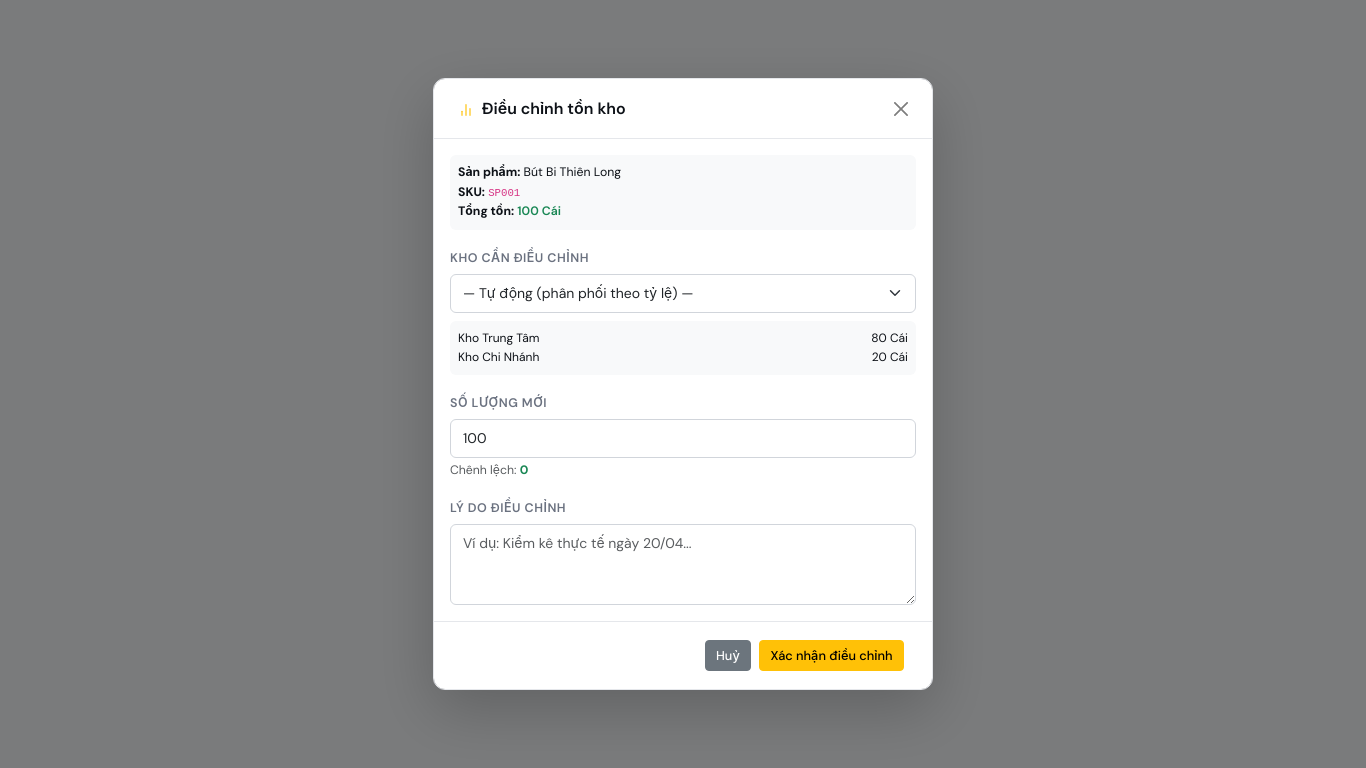
Test case: AdjustmentModal Component › shows validation error if reason is too short
# Enter valid qty
Clear the number field labelled "Số lượng mới" at (683, 438), box [450,419,916,458]
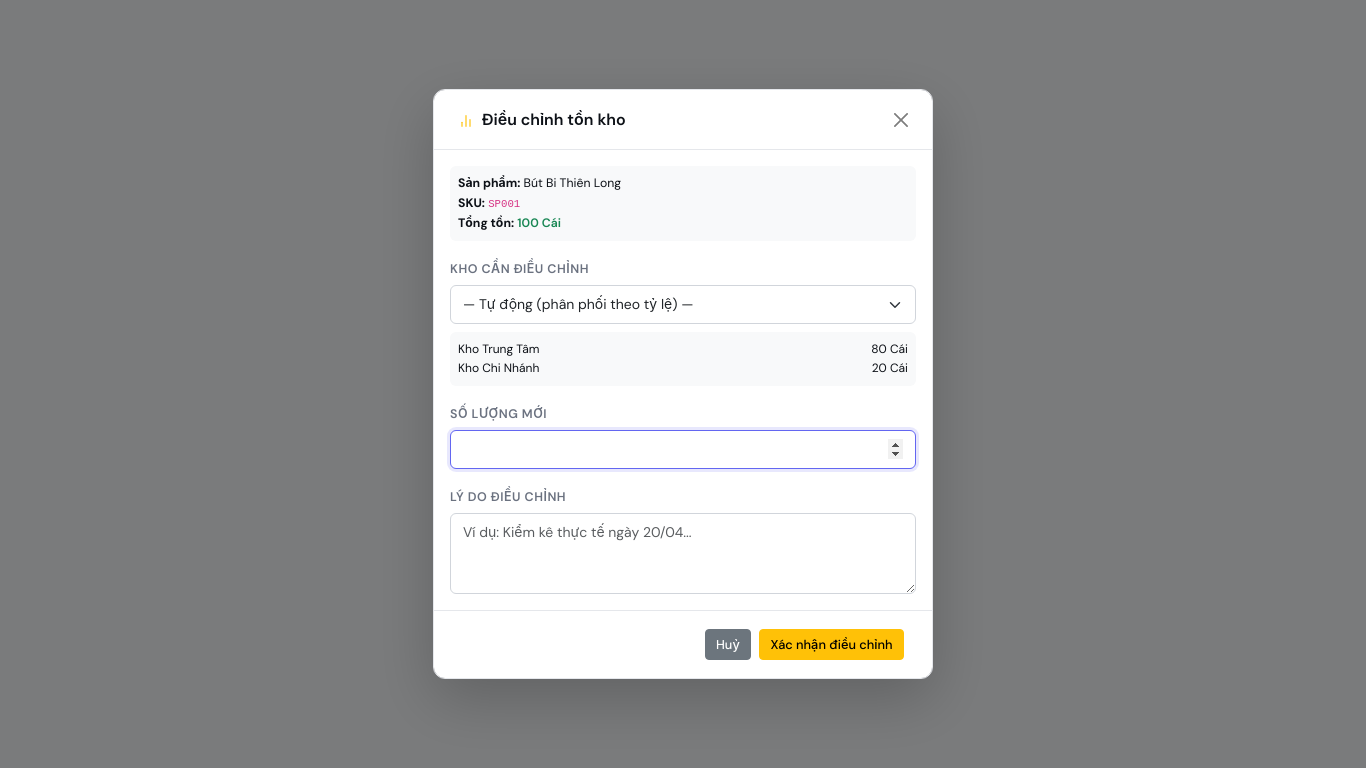
Type "120" into the number field labelled "Số lượng mới" at (683, 450), box [450,430,916,469]
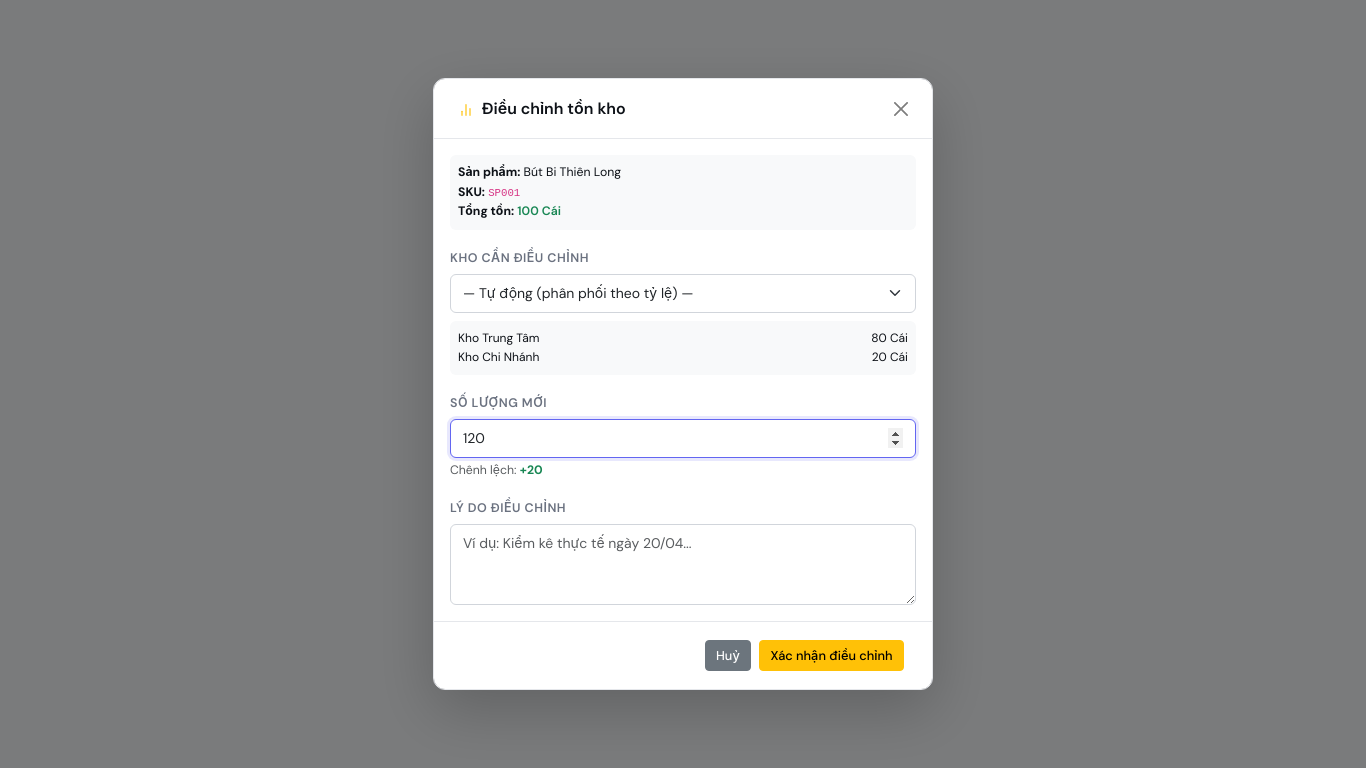
# Enter short reason
Type "Lỗi" into the text box labelled "Lý do điều chỉnh" at (683, 565), box [450,524,916,605]
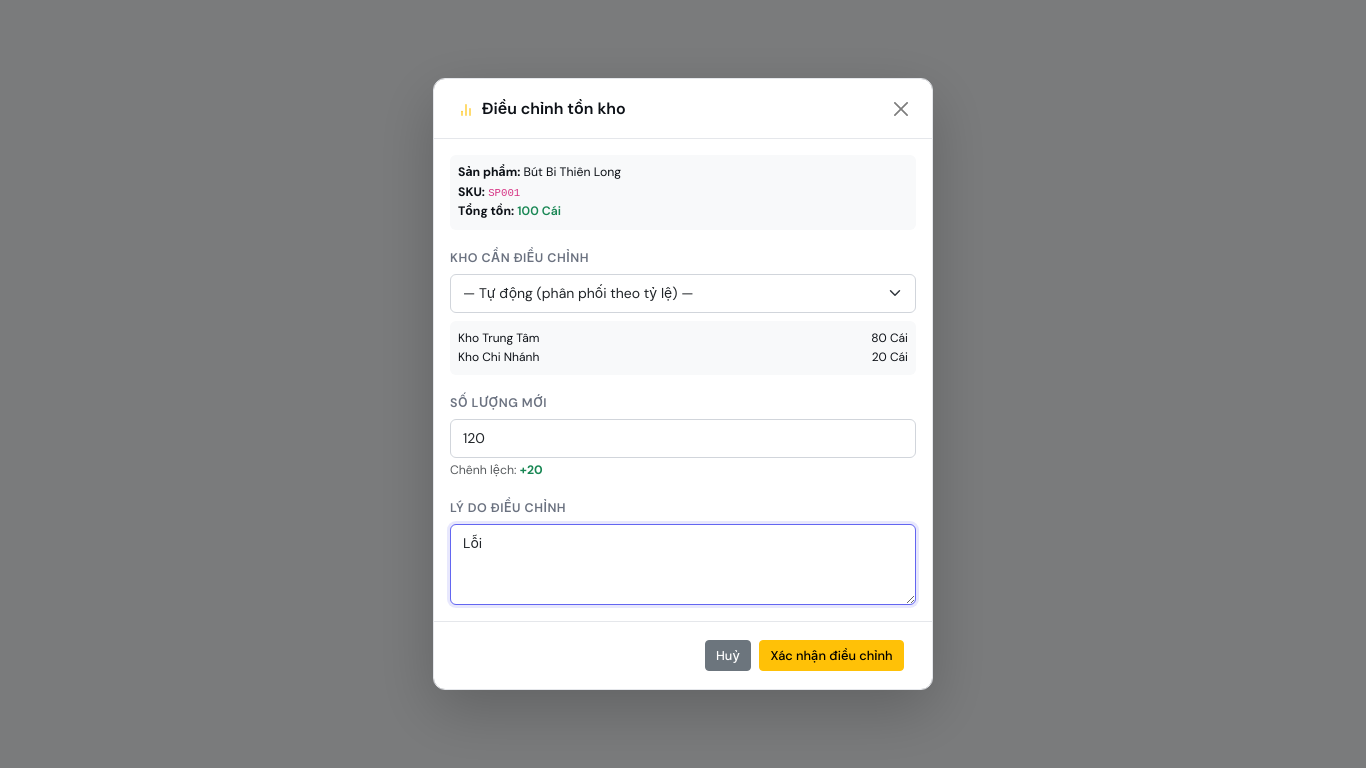
Click the button "Xác nhận điều chỉnh" at (832, 656), box [759,640,904,671]
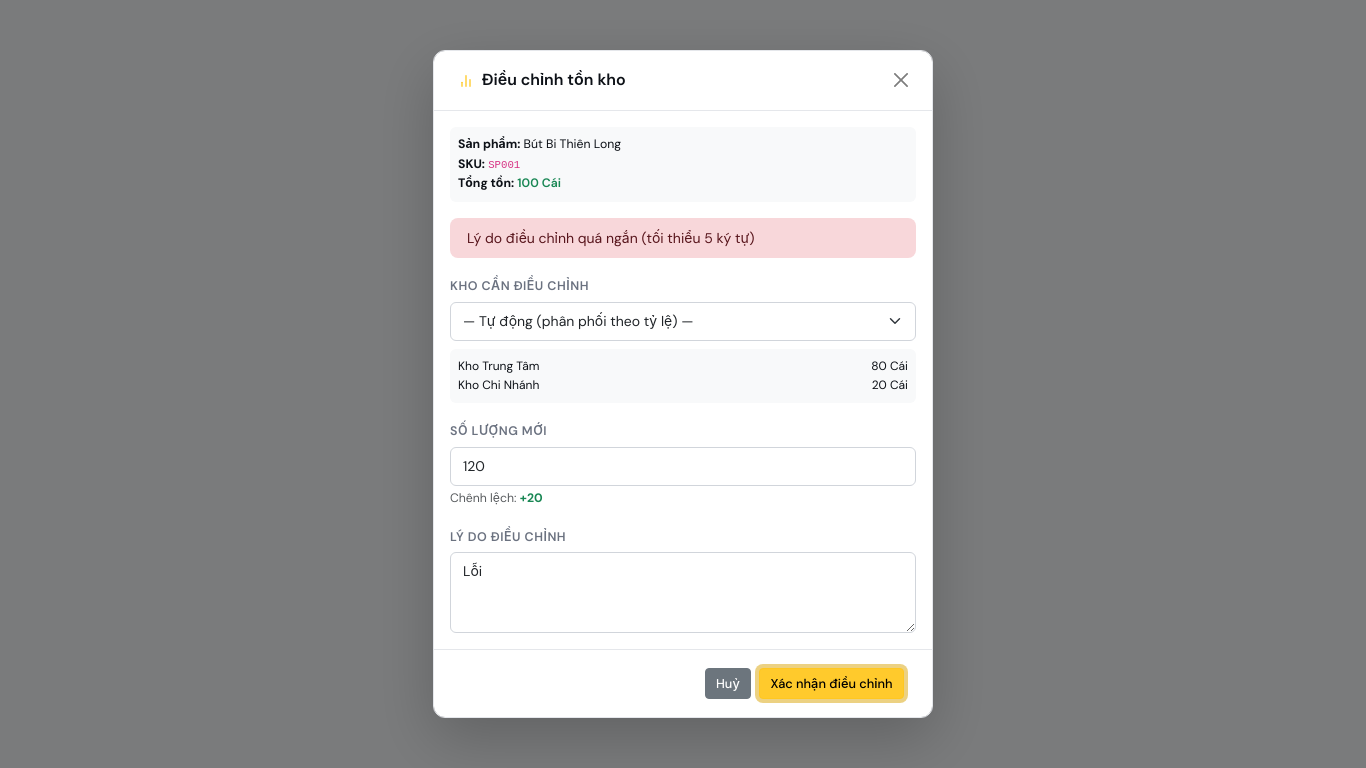
Check: the text "Lý do điều chỉnh quá ngắn (tối thiểu 5 ký tự)" is shown, box [450,218,916,258]
